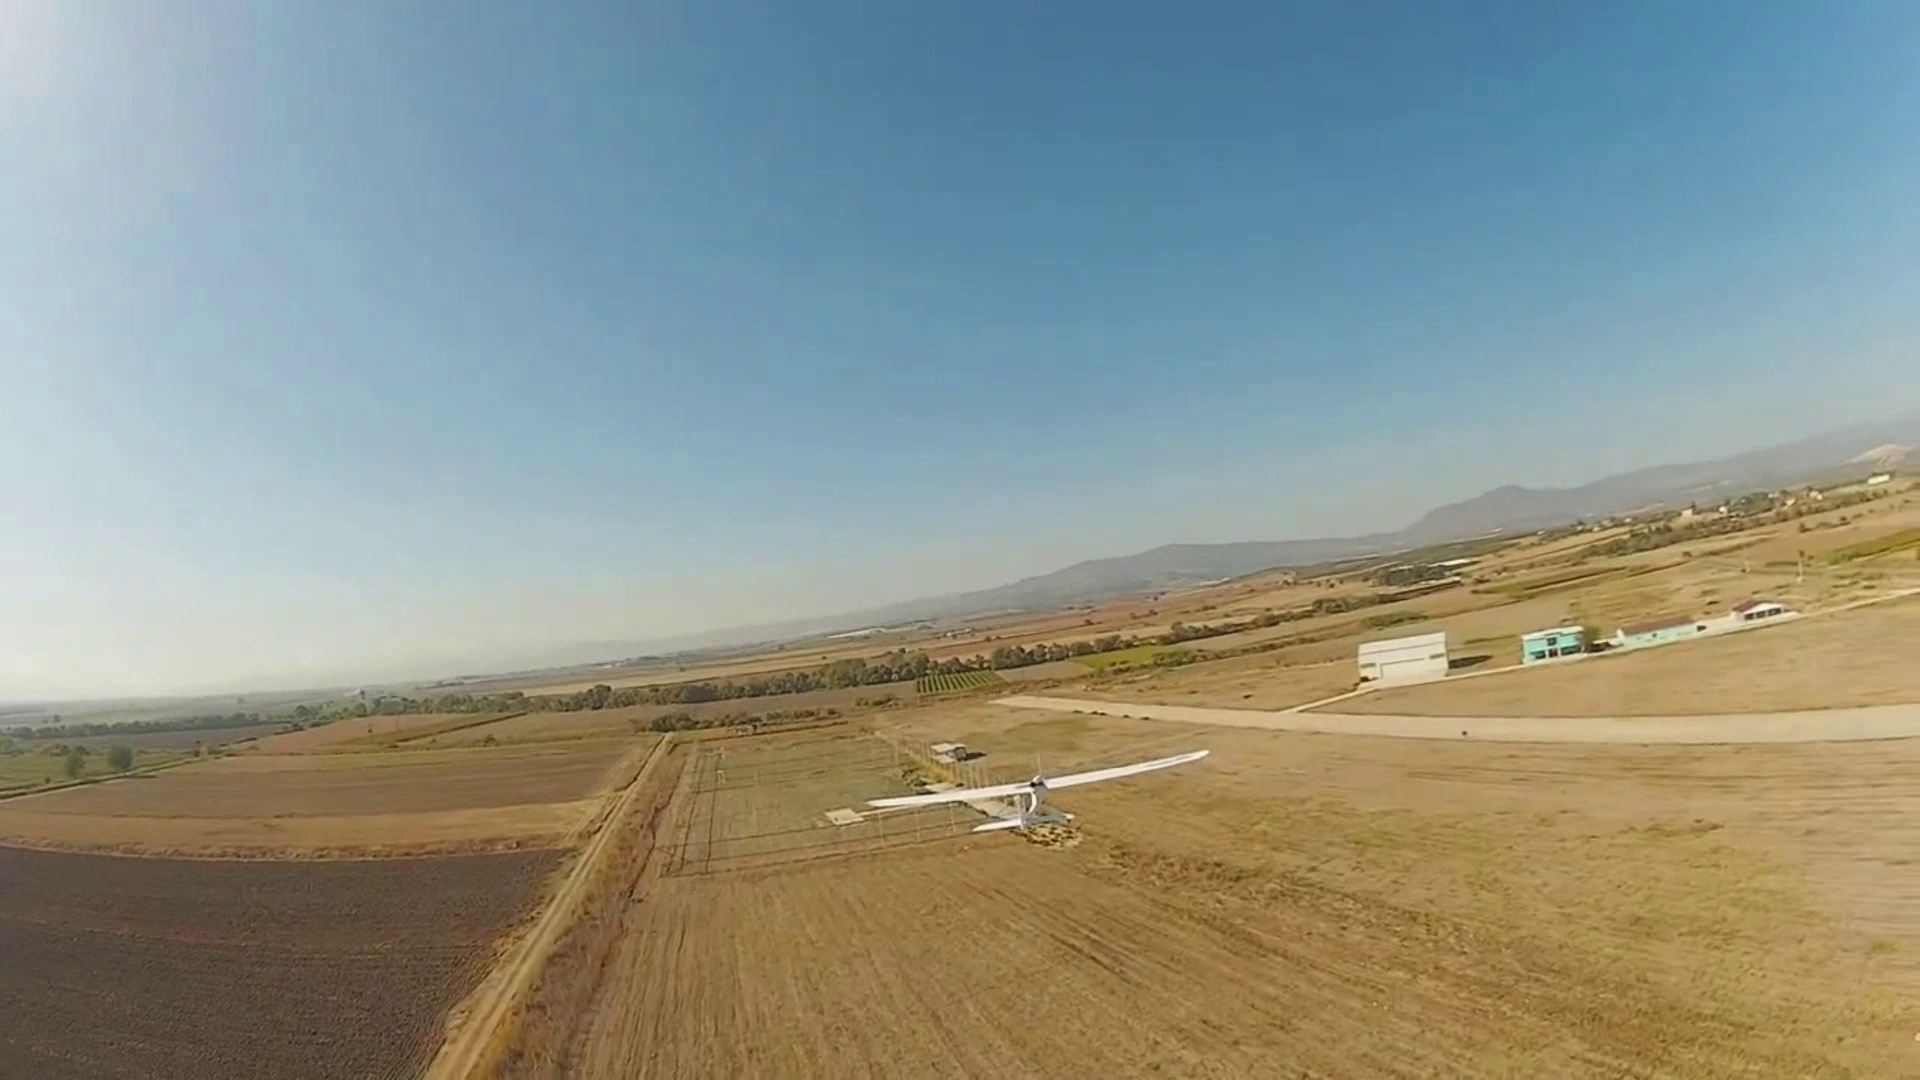airplane: (829, 740, 1213, 843)
